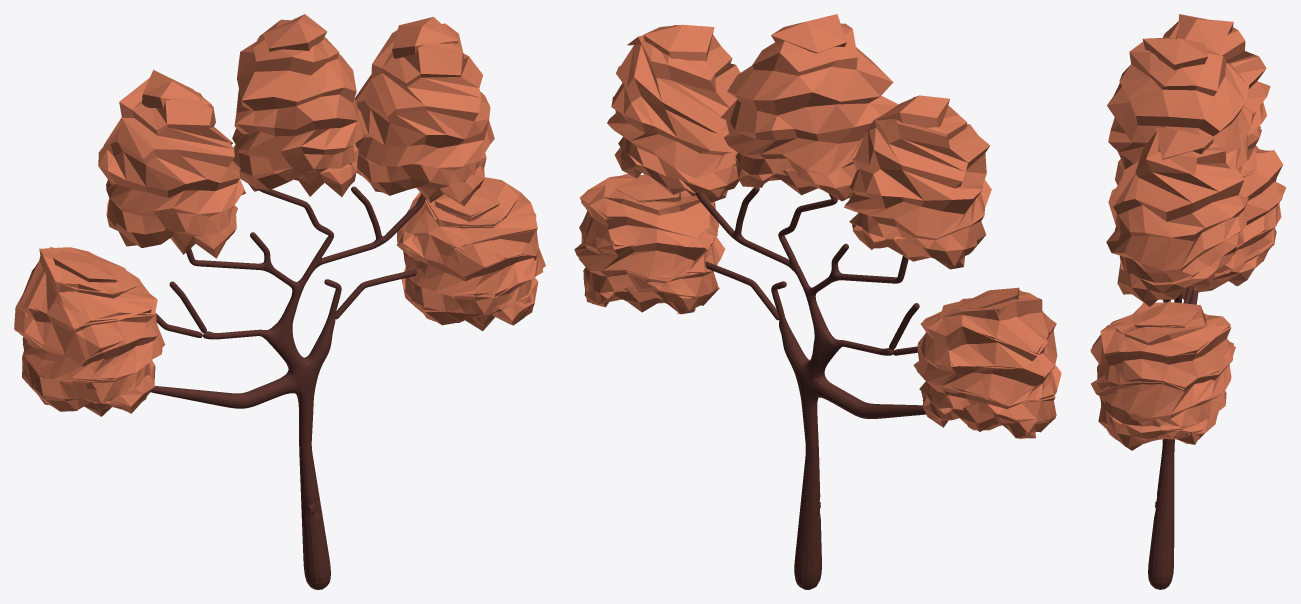
The model's file is arvore.glb.
3 views of the same model, side by side, from view 1: azimuth 30°, elevation 25°; view 2: azimuth 150°, elevation 25°; view 3: azimuth 270°, elevation 25° (orthographic). The views are drawn at different scales.
Parts seen in each view (by area): view 1: Icosphere, Cube; view 2: Icosphere, Cube; view 3: Icosphere, Cube.
Boxes of the visible parts, box(x1,y1,x2,y2) form: Icosphere: box(14, 14, 545, 416); Cube: box(150, 186, 425, 589); Icosphere: box(574, 14, 1061, 438); Cube: box(695, 187, 925, 589); Icosphere: box(1090, 14, 1286, 450); Cube: box(1148, 285, 1198, 589).
Size of the model in its own units: 16.06 by 17.87 by 5.82.
